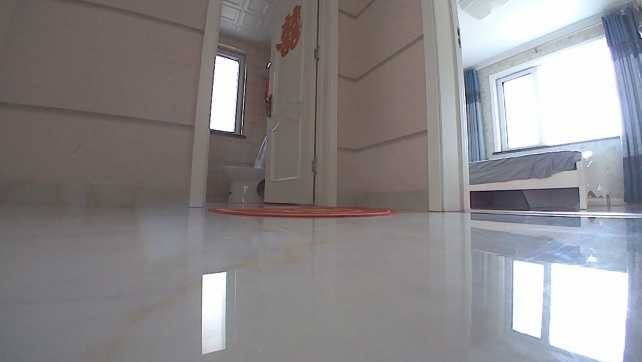bed1: (466, 145, 612, 209)
blanket: (205, 203, 395, 218)
door_anno: (260, 0, 337, 206)
toilet: (224, 137, 267, 206)
